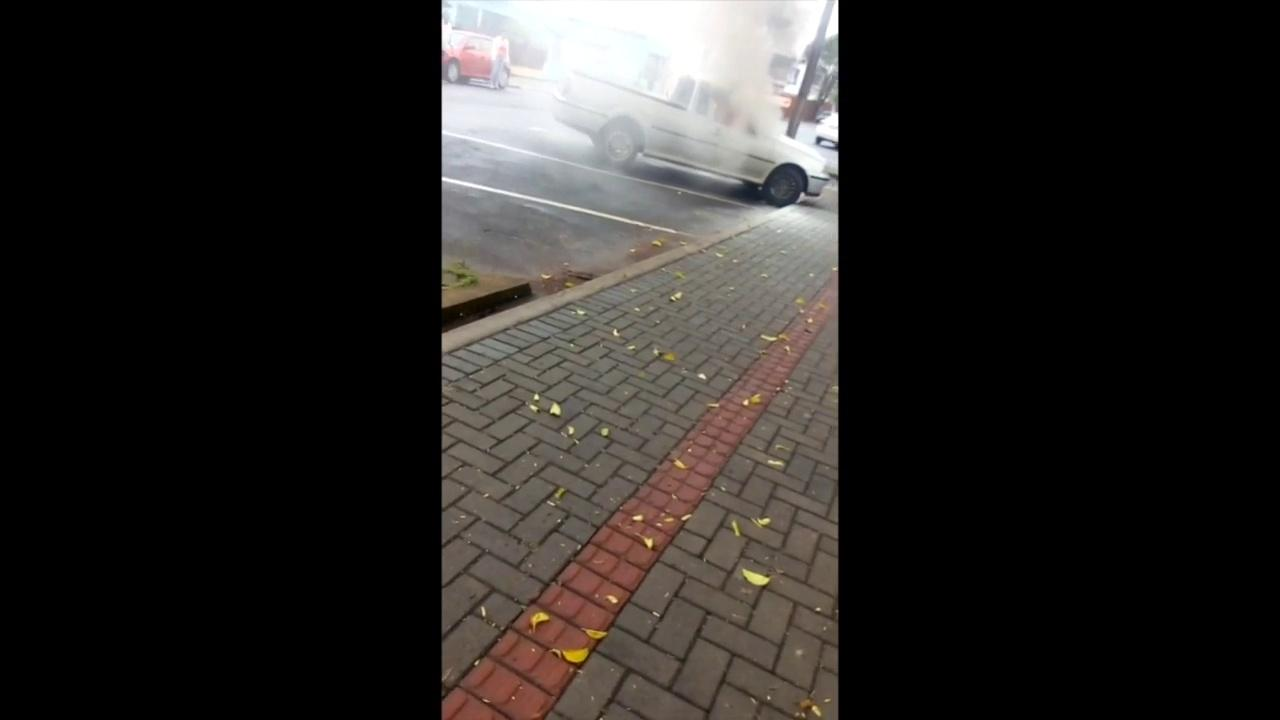Smoke: (608, 1, 807, 200)
